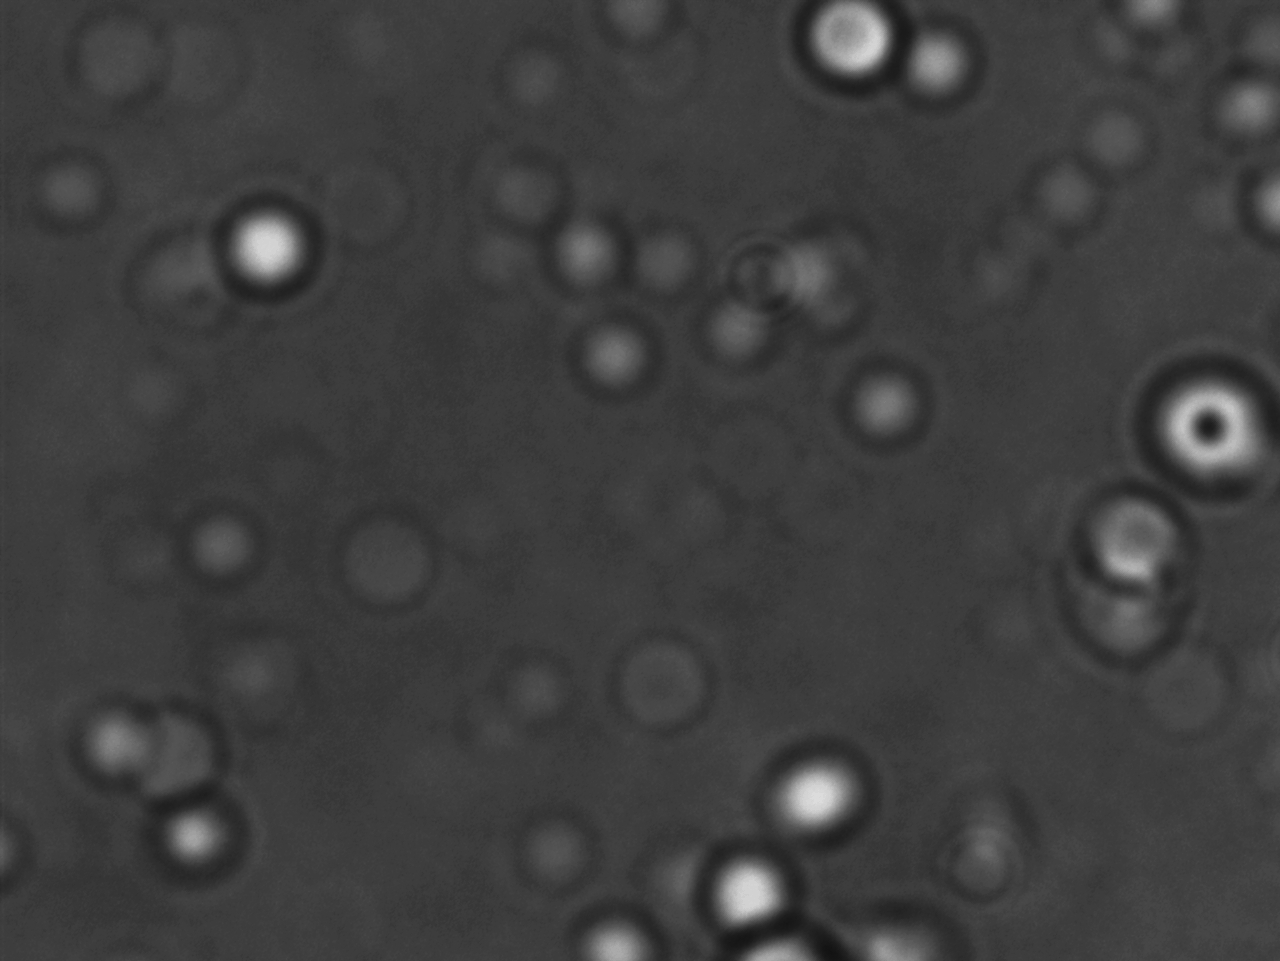depth:32: (1132, 352, 1279, 496)
